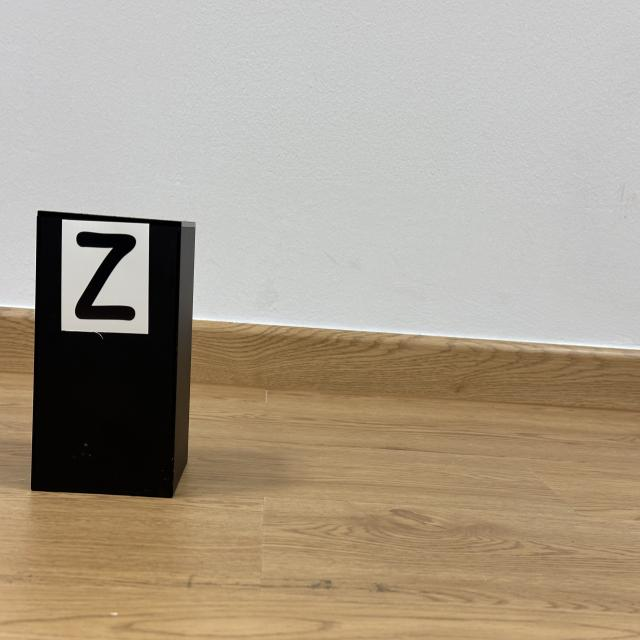Z: (75, 232, 136, 320)
